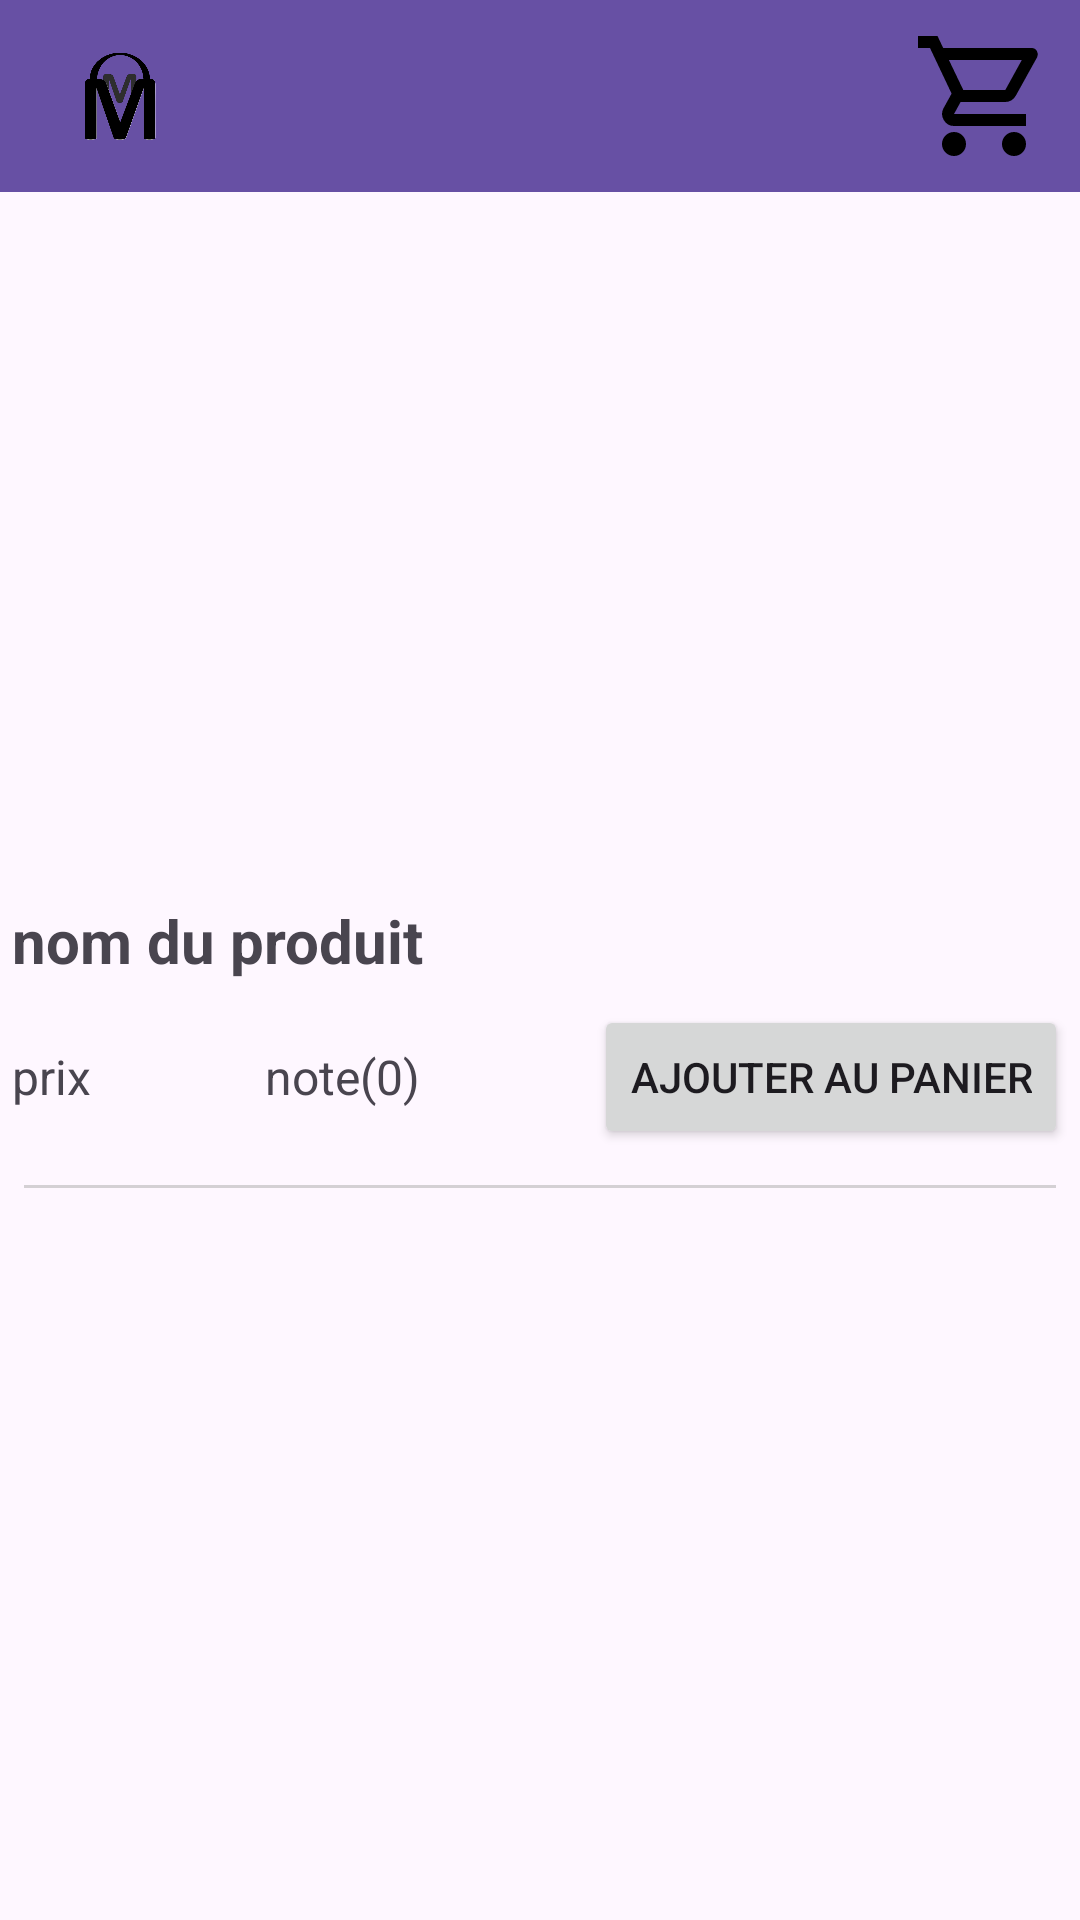

Where icons sit on this 1080×1920 app screen, as bbox=(x1, y1, x2, y2):
shopping cart: bbox=(918, 36, 1038, 156)
